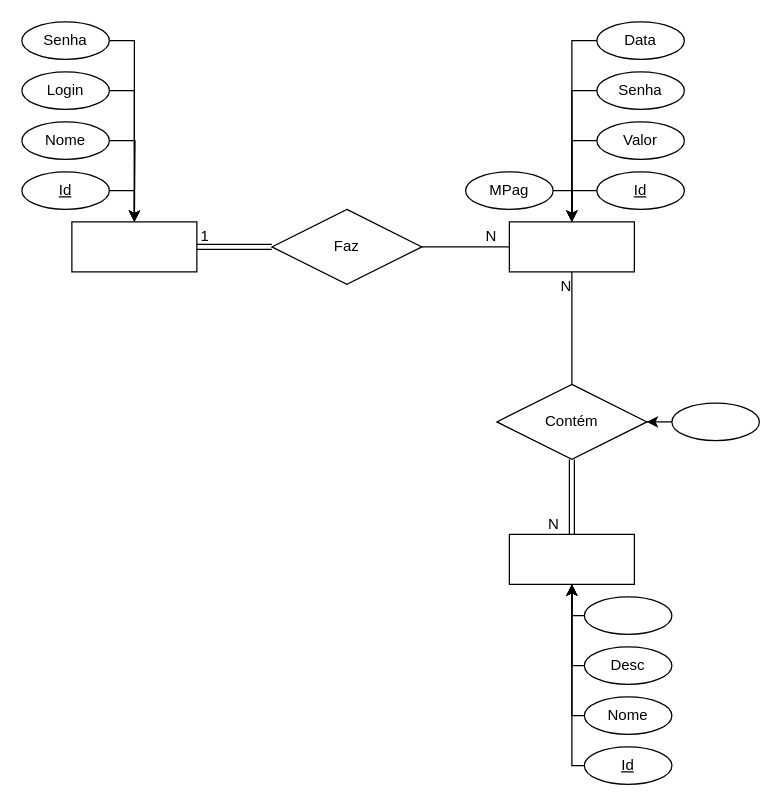
Some shapes in this 781 by 806 pixel diagram are drawn without their labels. The centre of each missing label's shape, as x and y in pixels:
"Cliente" belongs at (x=134, y=246).
"Pedido" belongs at (x=571, y=246).
"Preco" belongs at (x=627, y=615).
"Produtos" belongs at (x=571, y=558).
"Quantidade" belongs at (x=715, y=421).
